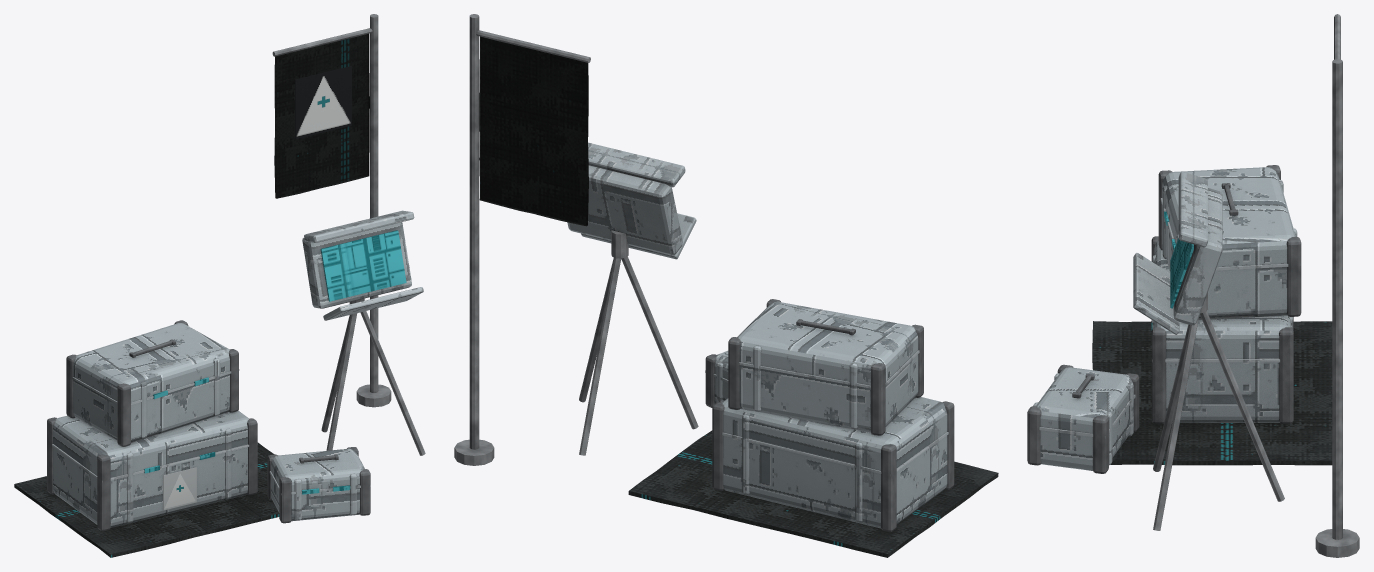
The model's file is enc_squad_post.glb.
The picture shows the model from 3 angles, left to right: view 1: azimuth 30°, elevation 25°; view 2: azimuth 150°, elevation 25°; view 3: azimuth 270°, elevation 25°; orthographic projection. The views are drawn at different scales.
Parts seen in each view (by area): view 1: enc_squad_post; view 2: enc_squad_post; view 3: enc_squad_post.
Part boxes in pixels (<box>): enc_squad_post: <box>14,14,425,557</box>; enc_squad_post: <box>454,14,998,557</box>; enc_squad_post: <box>1027,14,1359,557</box>.
Bounding box in the file's own units: 2.25 × 2.2 × 1.36.
Materials: 6 (6 with a texture image).
